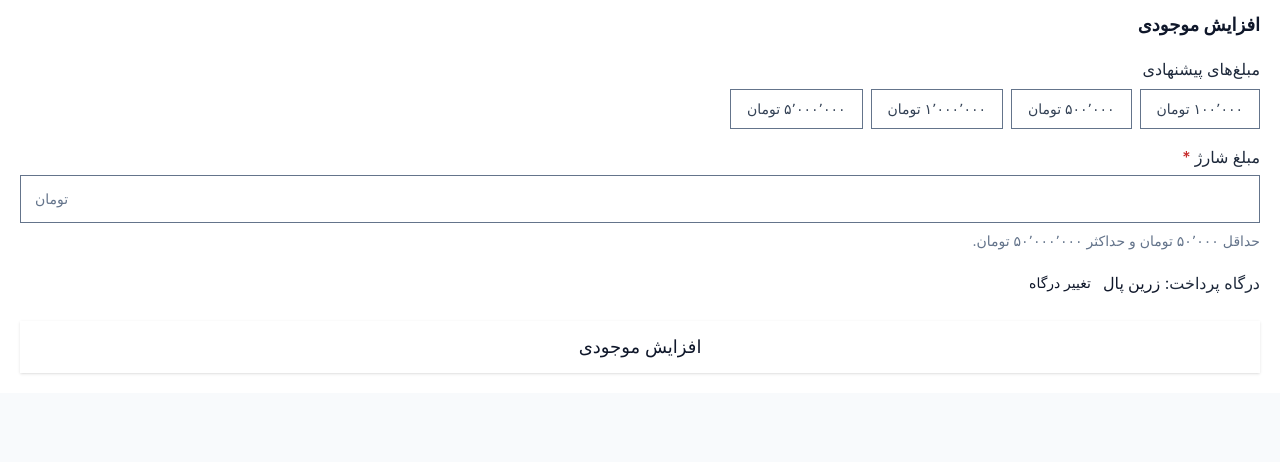
Test: the gateway › 409 payment_idempotency_conflict: said; the box stays
The width and height of the screenshot is (1280, 462).
Type "100000" into the field labelled "مبلغ شارژ *" at {"x": 664, "y": 199}, box [68,176,1259,222]
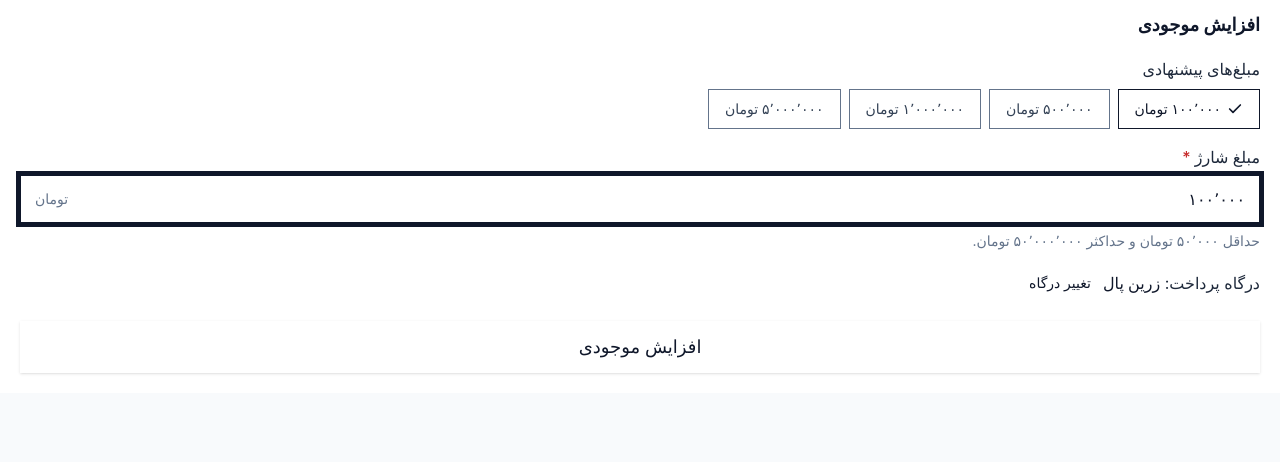
Click the button "افزایش موجودی" at {"x": 640, "y": 347}, box [20,321,1260,373]
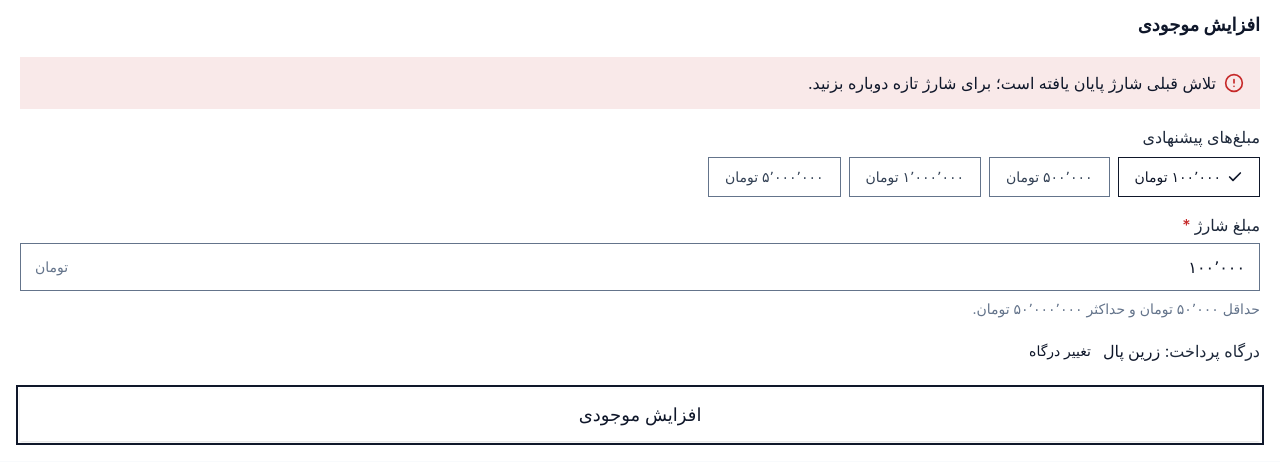
Check: the button "افزایش موجودی" is shown, box [20,389,1260,441]
Check: the message shows "تلاش قبلی شارژ پایان یافته است", box [808,73,1216,93]
